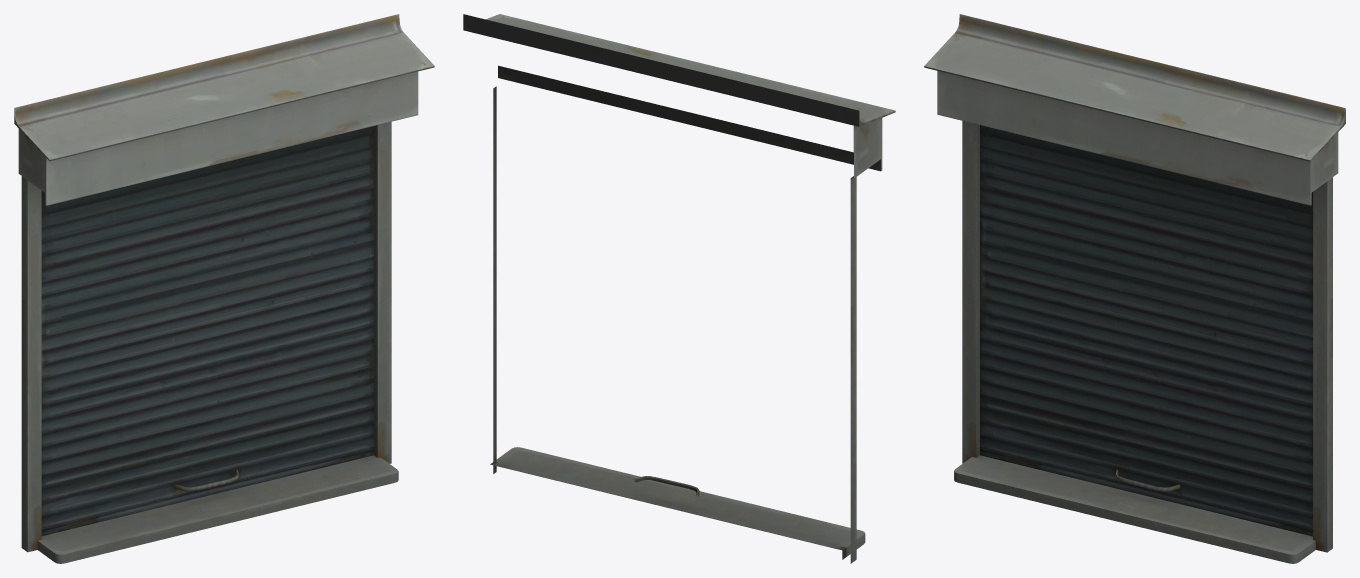
3 views of the same model, side by side, from view 1: azimuth 30°, elevation 25°; view 2: azimuth 150°, elevation 25°; view 3: azimuth 330°, elevation 25° (orthographic). The views are drawn at different scales.
Parts seen in each view (by area): view 1: body0_model0_lod0_mesh0; view 2: body0_model0_lod0_mesh0; view 3: body0_model0_lod0_mesh0.
Part boxes in pixels (<box>): body0_model0_lod0_mesh0: <box>14,14,434,563</box>; body0_model0_lod0_mesh0: <box>463,14,895,563</box>; body0_model0_lod0_mesh0: <box>924,14,1345,563</box>.
Bounding box in the file's own units: 168 × 184 × 27.24.
1 material, 1 textured.
